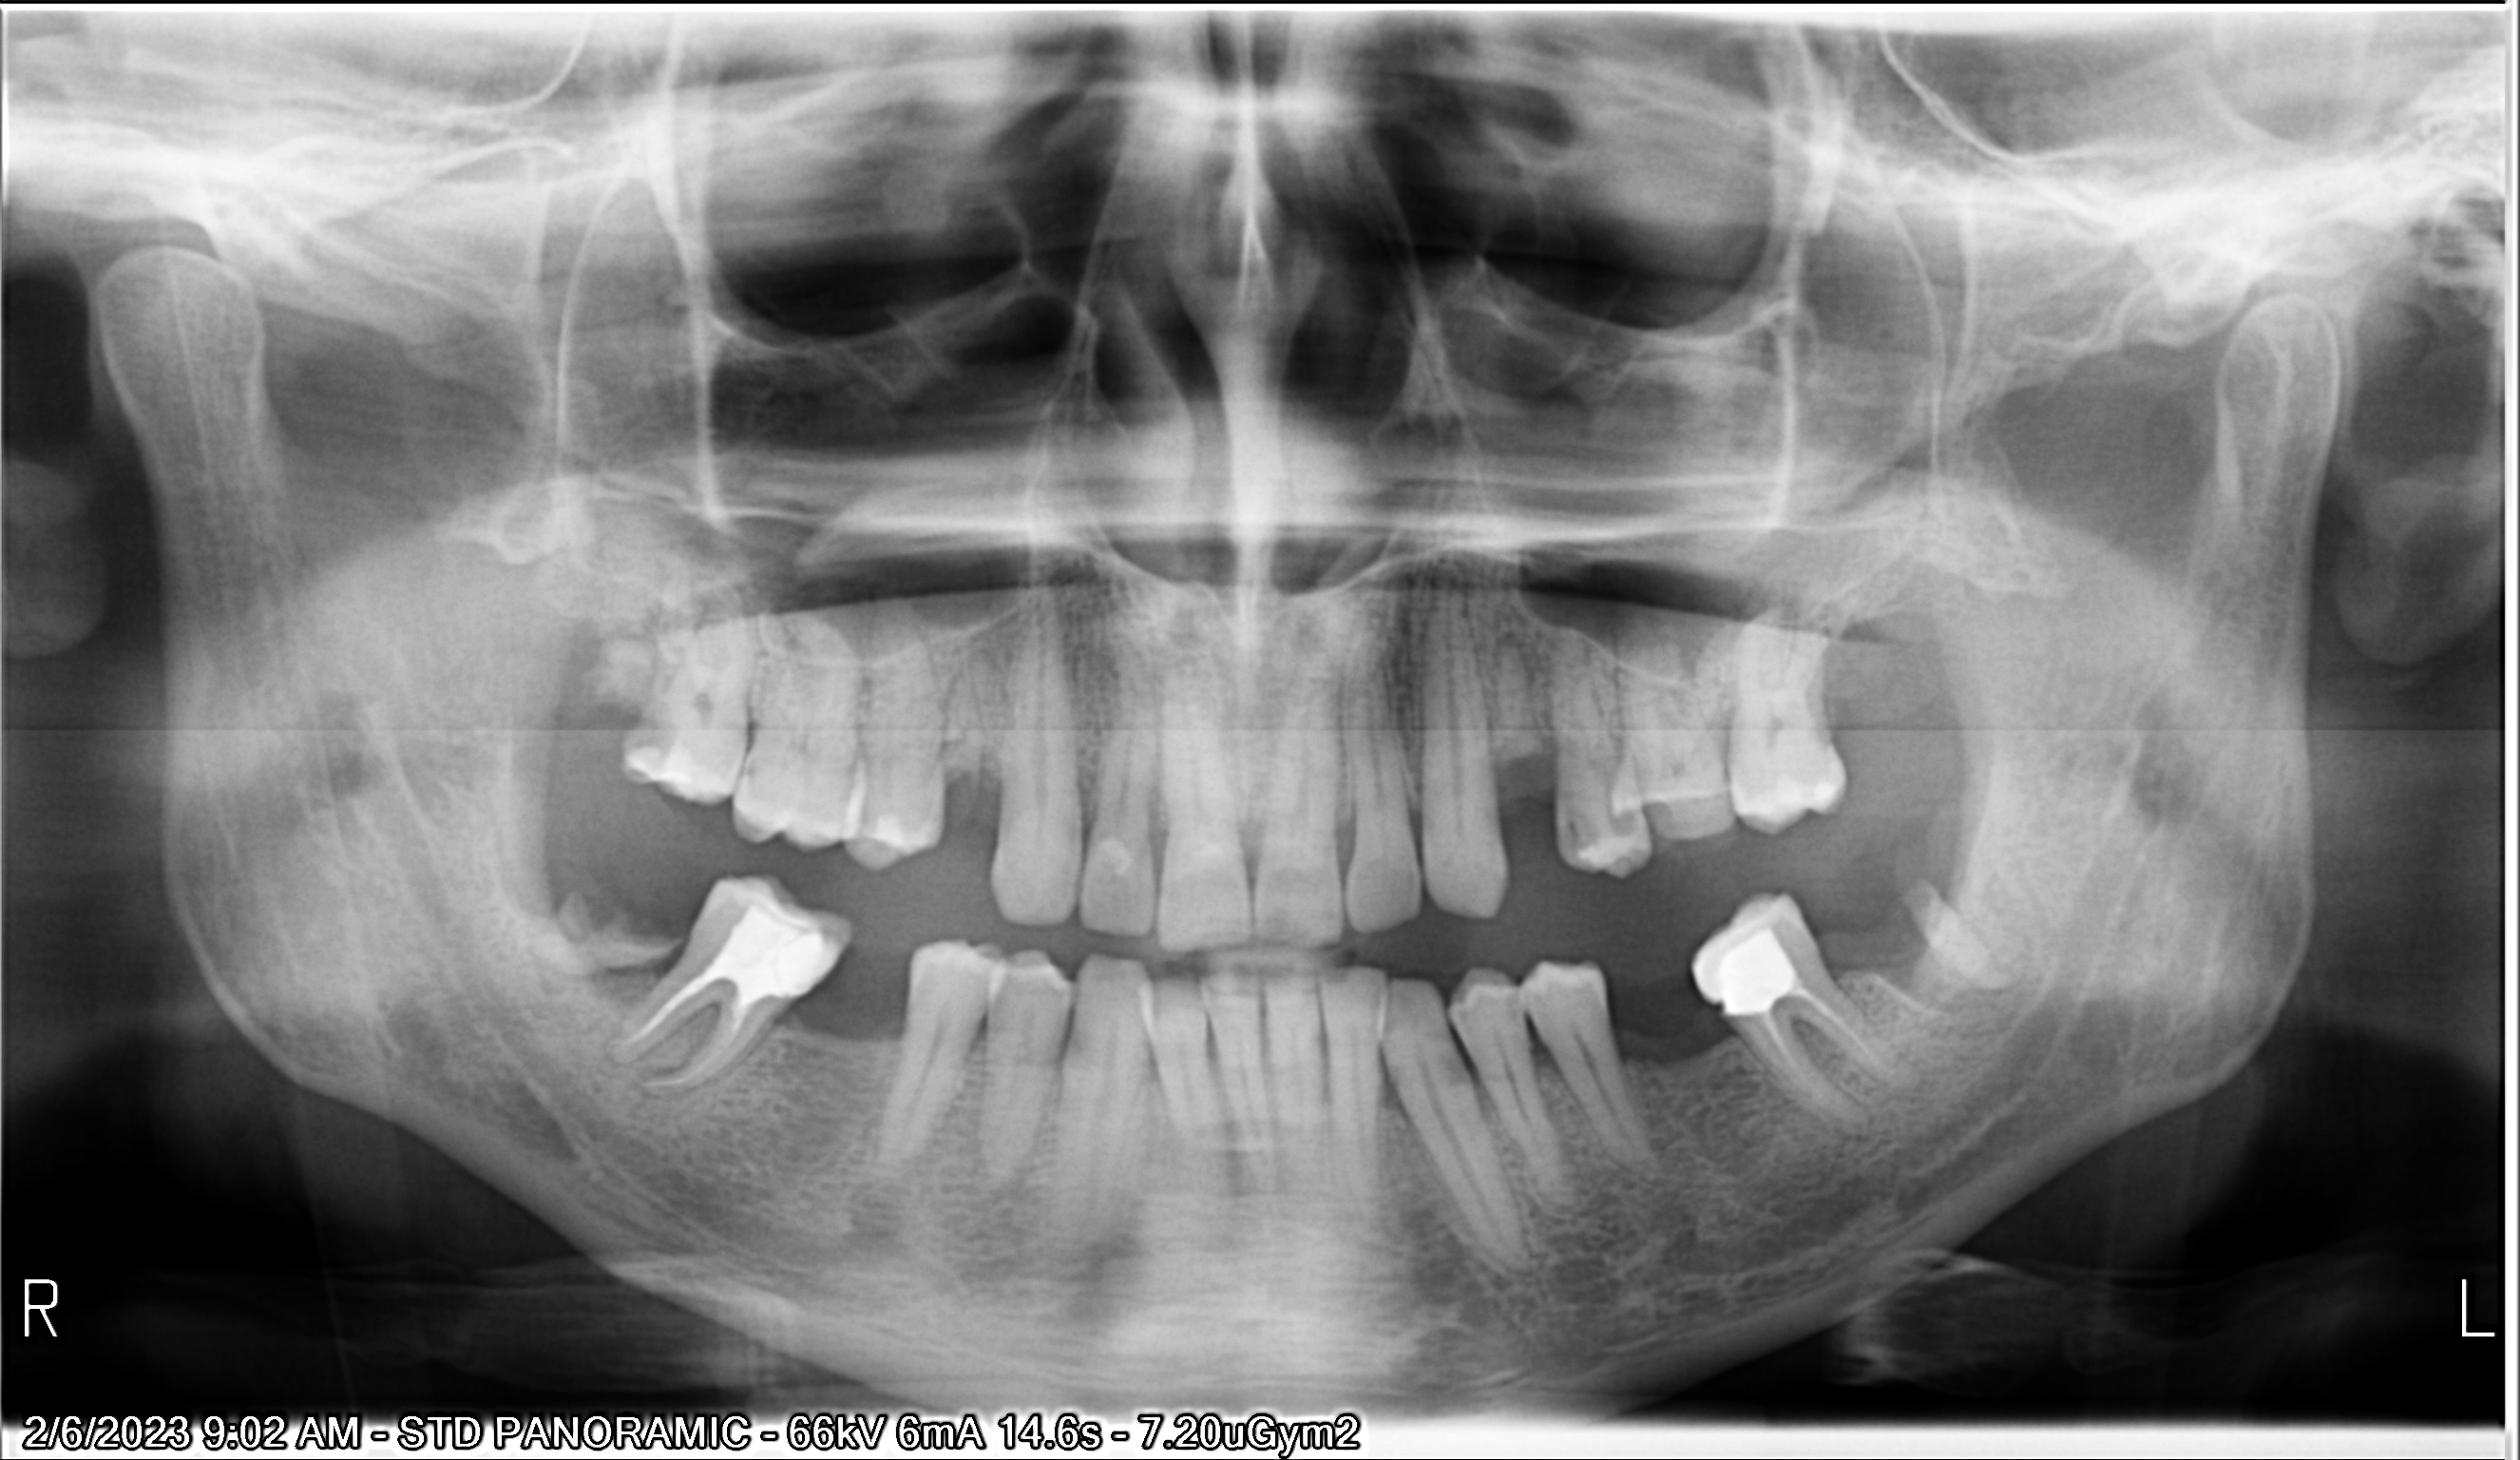BON: (1798, 614, 1877, 728), (1692, 972, 1759, 1081), (1349, 1065, 1438, 1144), (1125, 779, 1193, 876), (1221, 791, 1290, 885), (854, 975, 922, 1065), (1323, 777, 1381, 881), (733, 972, 818, 1039), (1601, 1010, 1664, 1090), (1393, 786, 1448, 867), (1516, 1010, 1565, 1092)
OBT: (702, 876, 851, 999), (1681, 914, 1806, 1022)
ROT: (1890, 855, 2044, 1012), (1464, 619, 1584, 784), (533, 879, 683, 998), (533, 619, 670, 744), (924, 629, 1023, 789)
